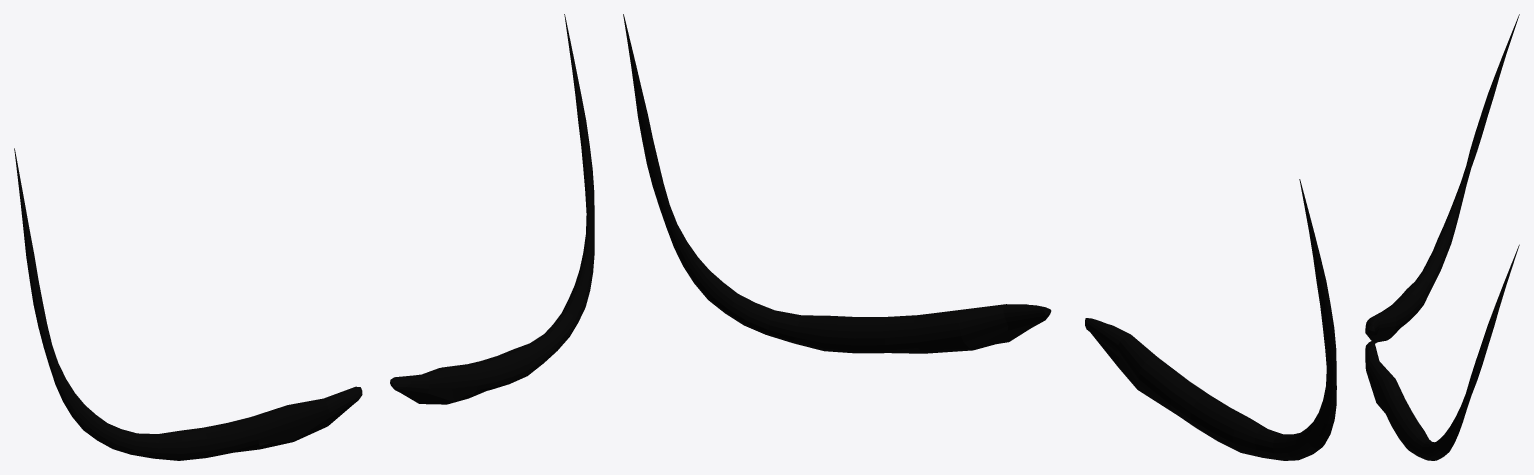
The model's file is dali_moustache.glb.
3 renders of one model, left to right at view 1: azimuth 30°, elevation 25°; view 2: azimuth 150°, elevation 25°; view 3: azimuth 270°, elevation 25°, orthographic. The views are drawn at different scales.
Visible parts, largest first — view 1: dali_moustache; view 2: dali_moustache; view 3: dali_moustache.
Part boxes in pixels (x1,y1,x2,y2): dali_moustache: (14, 14, 594, 460); dali_moustache: (623, 14, 1336, 460); dali_moustache: (1365, 14, 1519, 460).
Size of the model in its own units: 0.1175 by 0.0587 by 0.0328.
1 material, 1 textured.
